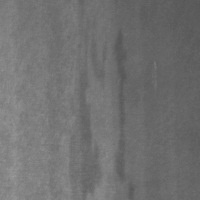inclusion: (72, 25, 110, 198), (110, 25, 135, 198)
